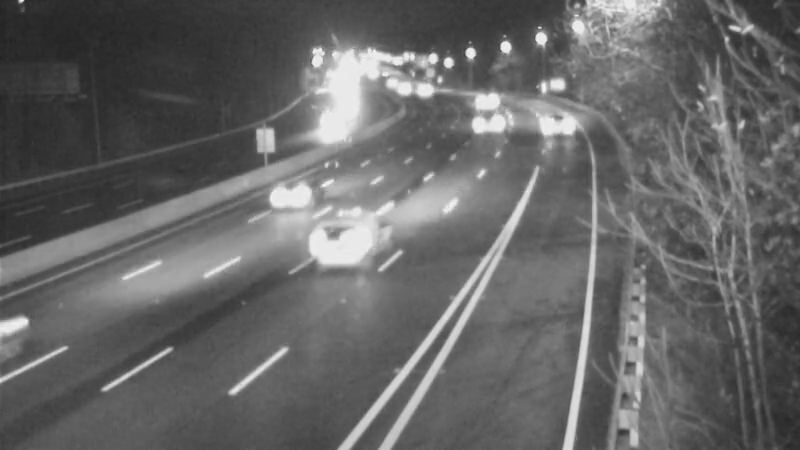vehicle: (256, 159, 336, 239), (293, 208, 373, 288), (379, 61, 429, 111), (405, 66, 455, 116), (460, 77, 510, 127), (531, 99, 581, 149), (465, 98, 515, 148), (305, 100, 355, 150)
